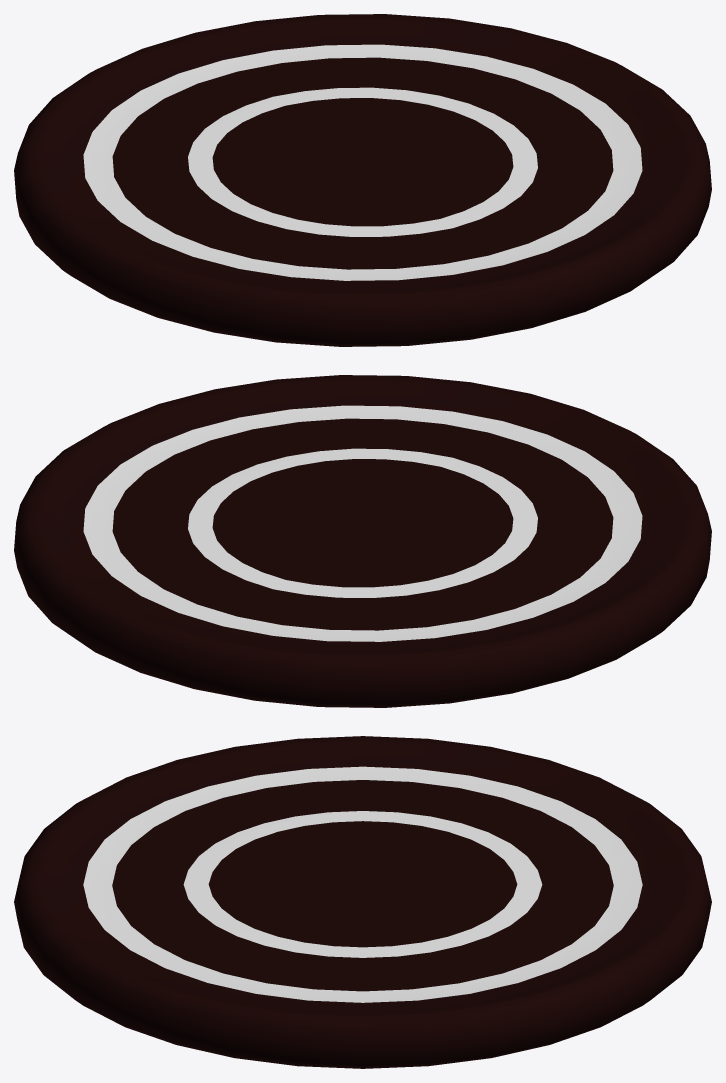
The model's file is Puck.fbx.
The picture shows the model from 3 angles, top to bottom: view 1: azimuth 30°, elevation 25°; view 2: azimuth 150°, elevation 25°; view 3: azimuth 270°, elevation 25°; orthographic projection.
Visible parts, largest first — view 1: ball.003; view 2: ball.003; view 3: ball.003.
Part boxes in pixels (x1,y1,x2,y2): ball.003: (14, 14, 711, 346); ball.003: (14, 375, 711, 707); ball.003: (14, 736, 711, 1068).
Size of the model in its own units: 89.51 by 7.13 by 89.51.
